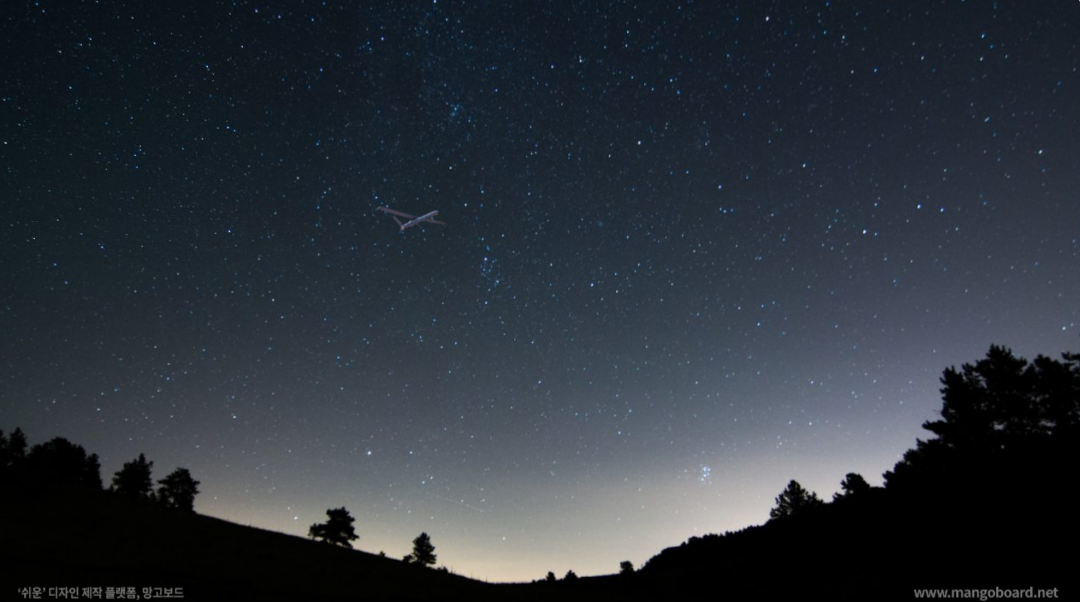military drone: (375, 206, 446, 230)
